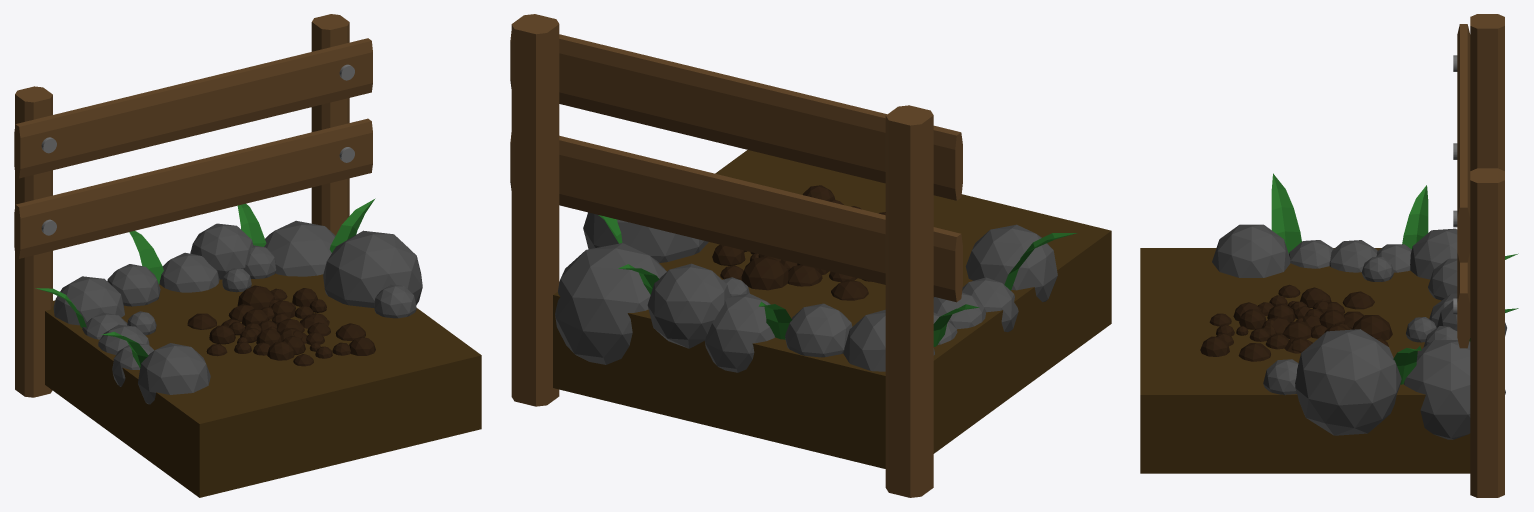
The model's file is GardenBed_free.fbx.
3 views of the same model, side by side, from view 1: azimuth 30°, elevation 25°; view 2: azimuth 150°, elevation 25°; view 3: azimuth 270°, elevation 25° (orthographic). The views are drawn at different scales.
Parts seen in each view (by area): view 1: Cube, Cube.004, Cube.001, Cube.003, Icosphere.012, Cube.002, Icosphere.004, Icosphere.001, Icosphere.009, Icosphere.010, Icosphere.003, Icosphere.005 (+10 smaller); view 2: Cube, Cube.004, Cube.001, Cube.003, Cube.002, Icosphere.001, Icosphere.010, Icosphere.004, Icosphere.003, Icosphere.012, Icosphere.005, Icosphere.009 (+4 smaller); view 3: Cube, Cube.002, Icosphere.012, Cube.003, Icosphere.001, Icosphere.004, Cube.004, Icosphere.009, Plane.025, Cube.001, Icosphere.008, Icosphere.013 (+13 smaller).
Boxes of the visible parts, <box> form: Cube: <box>45,273,481,497</box>; Cube.004: <box>14,38,372,178</box>; Cube.001: <box>14,118,372,258</box>; Cube.003: <box>15,86,52,397</box>; Icosphere.012: <box>323,230,422,307</box>; Cube.002: <box>311,14,349,235</box>; Icosphere.004: <box>138,343,210,404</box>; Icosphere.001: <box>264,220,335,276</box>; Icosphere.009: <box>53,276,124,325</box>; Icosphere.010: <box>190,223,253,279</box>; Icosphere.003: <box>159,252,219,292</box>; Icosphere.005: <box>107,264,160,306</box>; Cube: <box>553,150,1111,468</box>; Cube.004: <box>510,31,962,200</box>; Cube.001: <box>510,132,962,302</box>; Cube.003: <box>885,105,933,497</box>; Cube.002: <box>511,14,559,406</box>; Icosphere.001: <box>555,243,666,364</box>; Icosphere.010: <box>647,263,730,348</box>; Icosphere.004: <box>965,224,1057,302</box>; Icosphere.003: <box>704,293,775,372</box>; Icosphere.012: <box>583,212,708,262</box>; Icosphere.005: <box>785,303,852,357</box>; Icosphere.009: <box>843,309,934,371</box>; Cube: <box>1140,248,1470,473</box>; Cube.002: <box>1470,168,1504,497</box>; Icosphere.012: <box>1295,329,1401,435</box>; Cube.003: <box>1470,14,1504,170</box>; Icosphere.001: <box>1404,340,1505,439</box>; Icosphere.004: <box>1212,224,1290,277</box>; Cube.004: <box>1457,24,1470,262</box>; Icosphere.009: <box>1410,228,1457,279</box>; Plane.025: <box>1271,173,1301,253</box>; Cube.001: <box>1457,252,1470,348</box>; Icosphere.008: <box>1329,240,1377,272</box>; Icosphere.013: <box>1263,359,1298,395</box>.
Size of the model in its own units: 1015 by 800 by 873.
